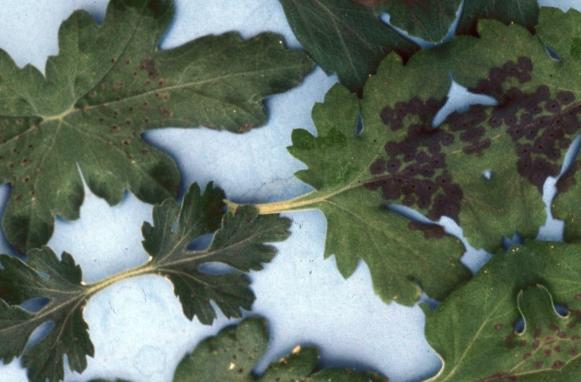Tomato leaf bacterial spot: (20, 0, 364, 242), (98, 161, 313, 354), (342, 235, 571, 382), (147, 269, 436, 382)
